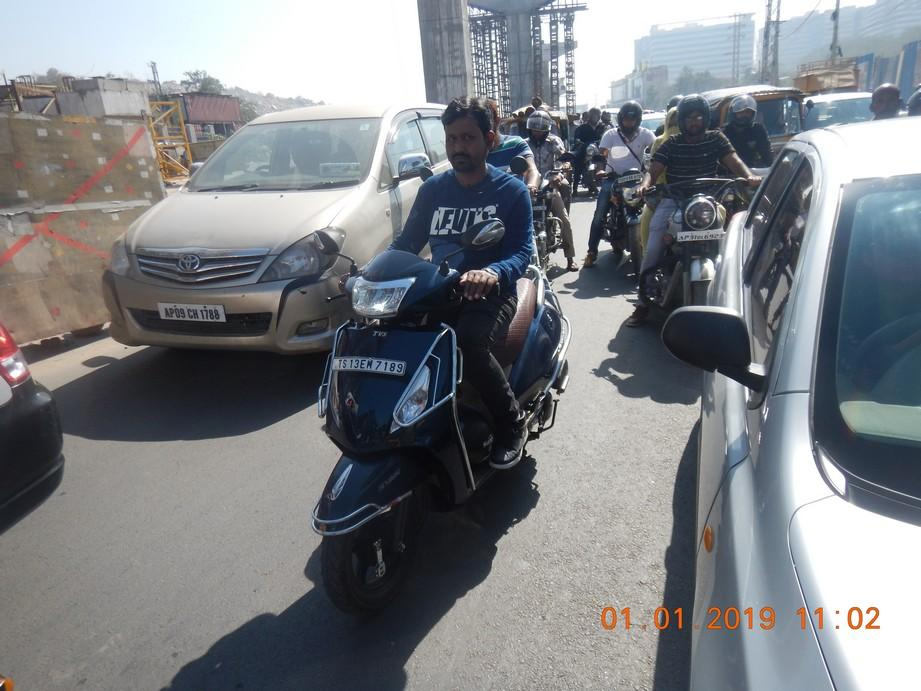plate: (329, 357, 410, 379)
